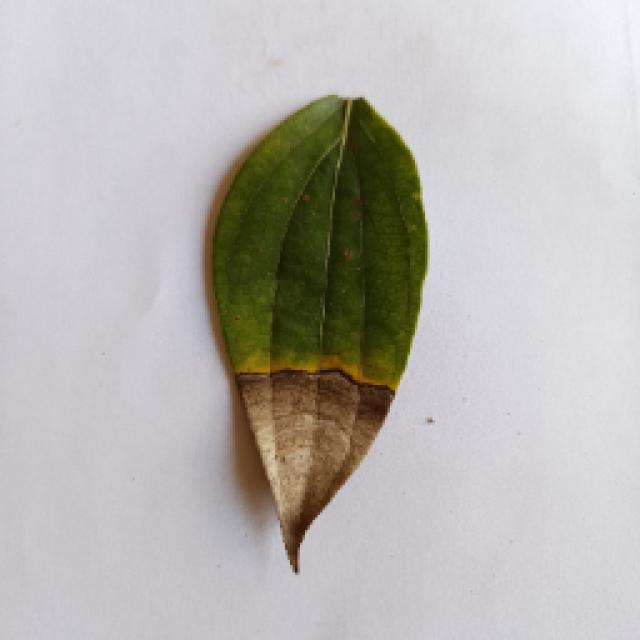footrot: (202, 87, 432, 575)
